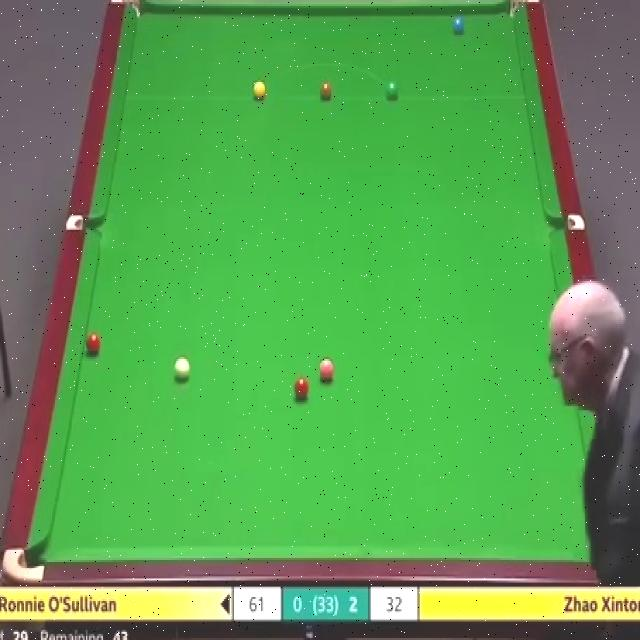blue-ball: (451, 15, 466, 36)
brown-ball: (319, 82, 333, 99)
green-ball: (385, 78, 400, 102)
pink-ball: (318, 358, 332, 382)
red-ball: (86, 331, 101, 355), (294, 376, 308, 398)
white-ball: (174, 357, 190, 382)
yellow-ball: (252, 79, 266, 100)
